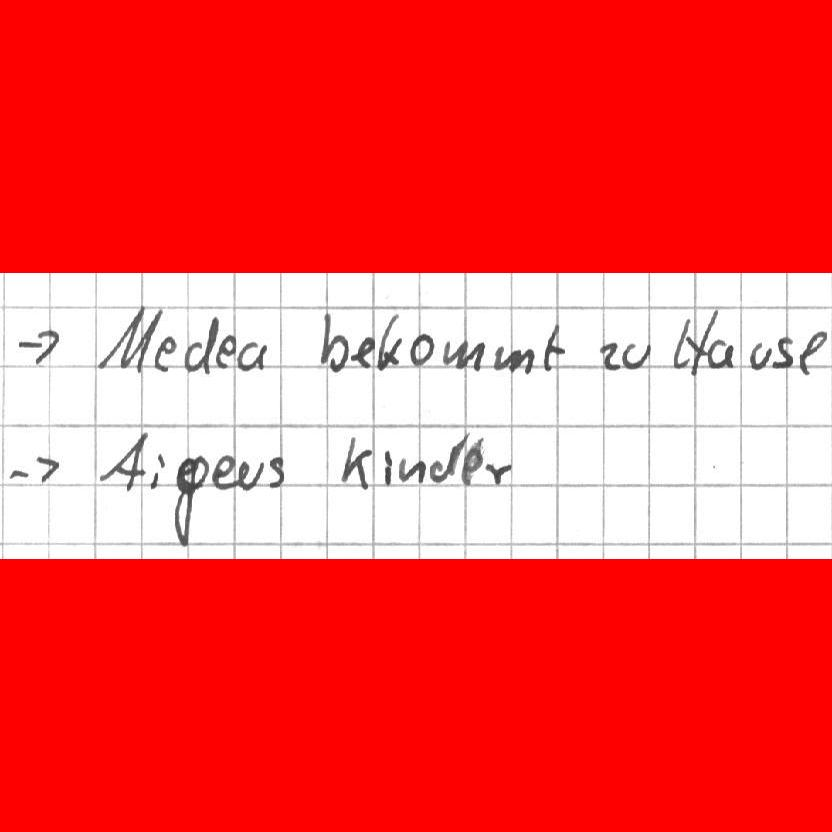Char: (94, 302, 163, 371), (171, 450, 209, 549), (97, 428, 149, 492), (670, 310, 713, 376), (336, 434, 375, 492), (317, 309, 351, 373), (428, 432, 466, 489), (13, 326, 64, 368), (5, 454, 67, 487), (374, 309, 405, 372), (187, 312, 219, 371), (440, 336, 487, 373), (540, 321, 570, 375), (490, 341, 536, 376), (797, 328, 828, 375), (150, 331, 179, 375), (237, 338, 273, 372), (209, 449, 236, 491), (481, 460, 520, 489), (770, 333, 799, 371), (407, 330, 437, 366), (460, 444, 486, 485), (706, 336, 735, 371), (263, 452, 290, 489), (620, 340, 653, 370), (746, 337, 774, 372), (396, 456, 427, 486), (596, 340, 625, 370), (350, 335, 375, 369), (235, 457, 263, 487), (215, 332, 237, 368), (146, 452, 165, 489), (380, 447, 395, 485)
